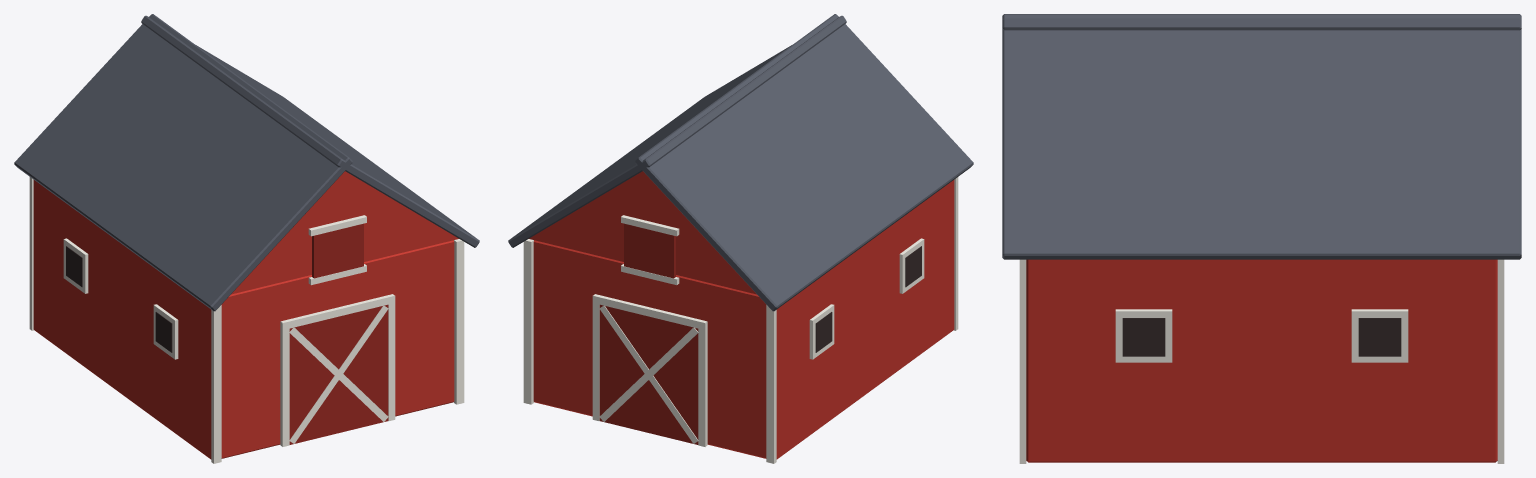
Rendered from barn.glb.
The picture shows the model from 3 angles, left to right: view 1: azimuth 30°, elevation 25°; view 2: azimuth 150°, elevation 25°; view 3: azimuth 270°, elevation 25°; orthographic projection. The views are drawn at different scales.
Parts seen in each view (by area): view 1: Barn; view 2: Barn; view 3: Barn.
Boxes of the visible parts, <box> form: Barn: <box>14,14,479,463</box>; Barn: <box>508,14,973,463</box>; Barn: <box>1002,14,1521,463</box>.
Bounding box in the file's own units: 8.65 × 8.58 × 11.
